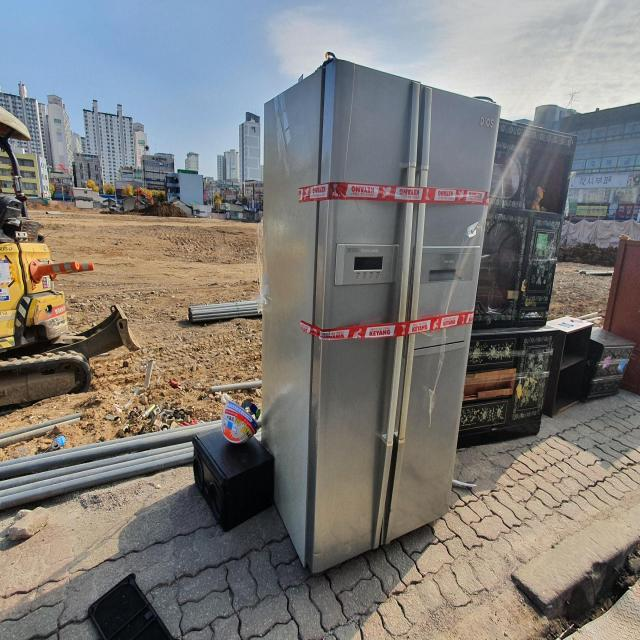refrigerator: (258, 54, 504, 576)
